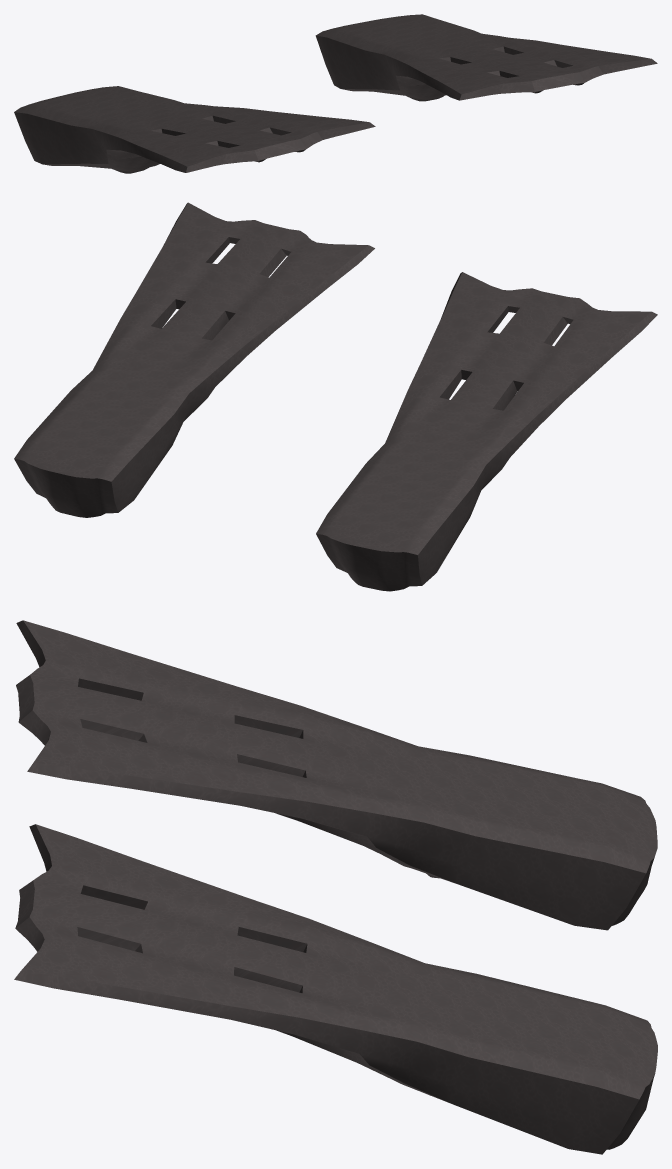
The model's file is diving_fins_flippers.glb.
3 views of the same model, one above another, from view 1: azimuth 30°, elevation 25°; view 2: azimuth 150°, elevation 25°; view 3: azimuth 270°, elevation 25° (orthographic). The views are drawn at different scales.
Visible parts, largest first — view 1: diving_flipper_lp_defaultMat_0, diving_flipper_lp_0_defaultMat_0_0; view 2: diving_flipper_lp_defaultMat_0, diving_flipper_lp_0_defaultMat_0_0; view 3: diving_flipper_lp_0_defaultMat_0_0, diving_flipper_lp_defaultMat_0.
Boxes of the visible parts, box(x1,y1,x2,y2) form: diving_flipper_lp_defaultMat_0: box(14, 86, 375, 173); diving_flipper_lp_0_defaultMat_0_0: box(315, 14, 657, 101); diving_flipper_lp_defaultMat_0: box(316, 272, 657, 591); diving_flipper_lp_0_defaultMat_0_0: box(14, 202, 374, 517); diving_flipper_lp_0_defaultMat_0_0: box(14, 824, 657, 1154); diving_flipper_lp_defaultMat_0: box(16, 620, 657, 930).
Size of the model in its own units: 0.6279 by 0.1945 by 0.4895.
Materials: 2 (2 with a texture image).
